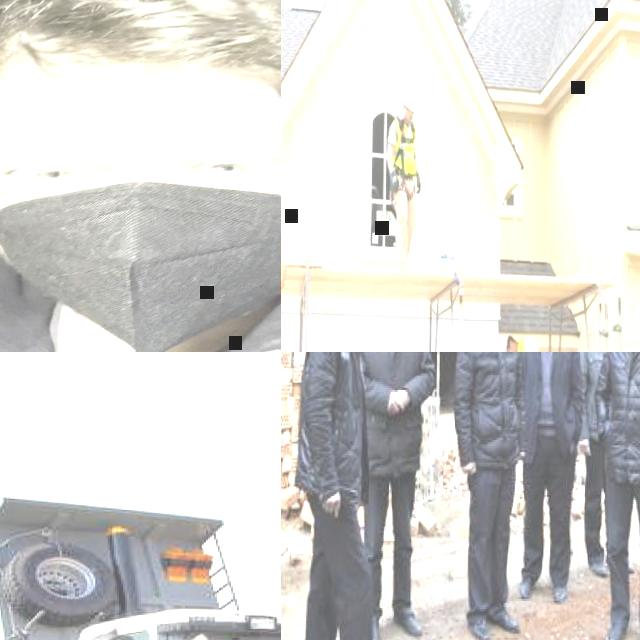helmet: (402, 85, 419, 112), (499, 334, 511, 352)
machinery: (0, 489, 281, 640)
mask: (0, 154, 281, 352)
no_helmet: (0, 0, 281, 119)
no_mask: (406, 114, 414, 124), (511, 347, 518, 352)
no_vest: (0, 252, 281, 352), (296, 352, 364, 480), (360, 352, 424, 461), (461, 352, 520, 456), (521, 352, 576, 435), (606, 352, 640, 478), (583, 352, 608, 437)
person: (0, 0, 281, 352), (292, 352, 381, 640), (357, 352, 438, 640), (451, 352, 526, 640), (519, 352, 585, 605), (575, 352, 638, 578), (592, 352, 640, 640), (387, 85, 422, 271)
vest: (392, 117, 418, 175)
